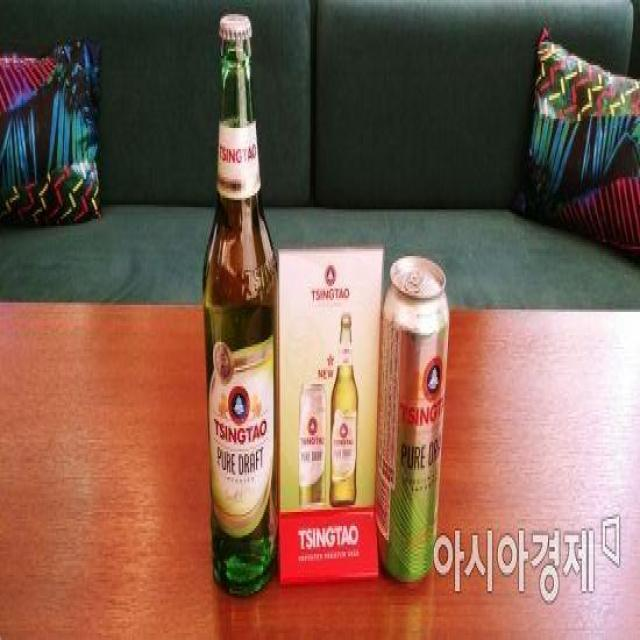beer-bottle: (190, 5, 288, 608)
beer-can: (377, 255, 444, 585)
